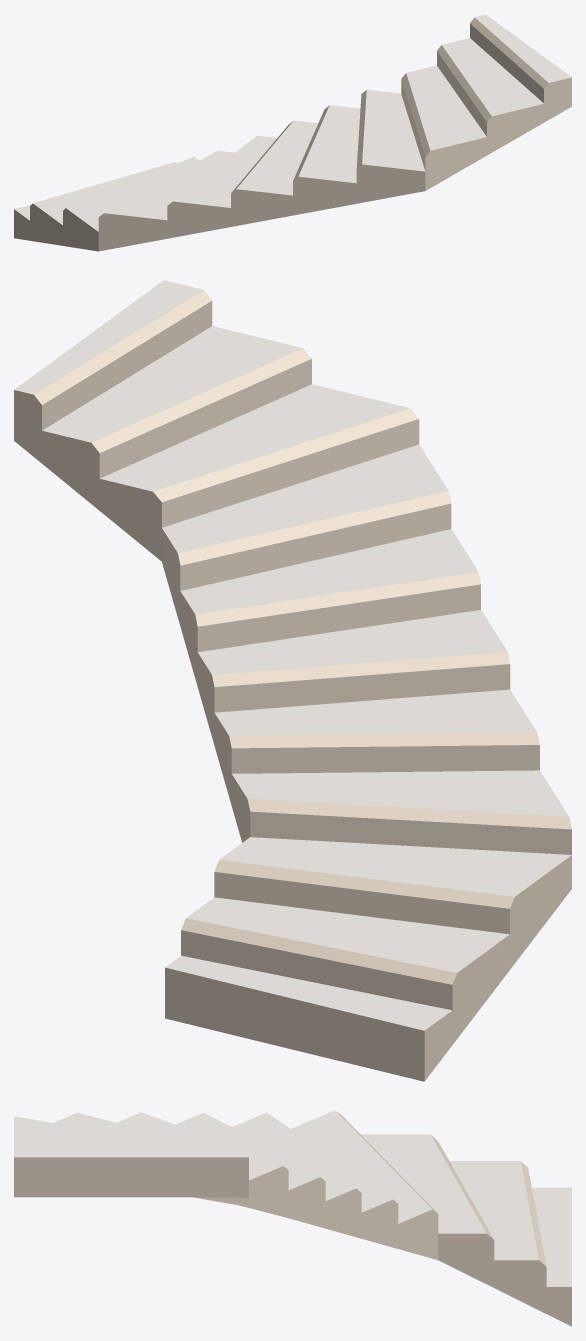
Rendered from Stairs_Steps_Curved.glb.
3 views of the same model, one above another, from view 1: azimuth 30°, elevation 25°; view 2: azimuth 150°, elevation 25°; view 3: azimuth 270°, elevation 25° (orthographic). The views are drawn at different scales.
Parts seen in each view (by area): view 1: Stairs_Steps_Curved; view 2: Stairs_Steps_Curved; view 3: Stairs_Steps_Curved.
Boxes of the visible parts, x1=… form: Stairs_Steps_Curved: x1=14, y1=14, x2=571, y2=251; Stairs_Steps_Curved: x1=14, y1=280, x2=571, y2=1081; Stairs_Steps_Curved: x1=14, y1=1110, x2=571, y2=1326.
Size of the model in its own units: 1.9 by 1.15 by 1.9.
